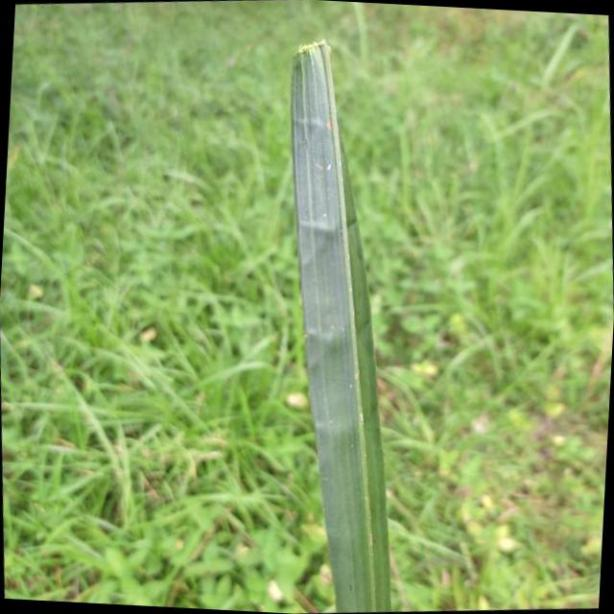Boron: (286, 38, 392, 614)
